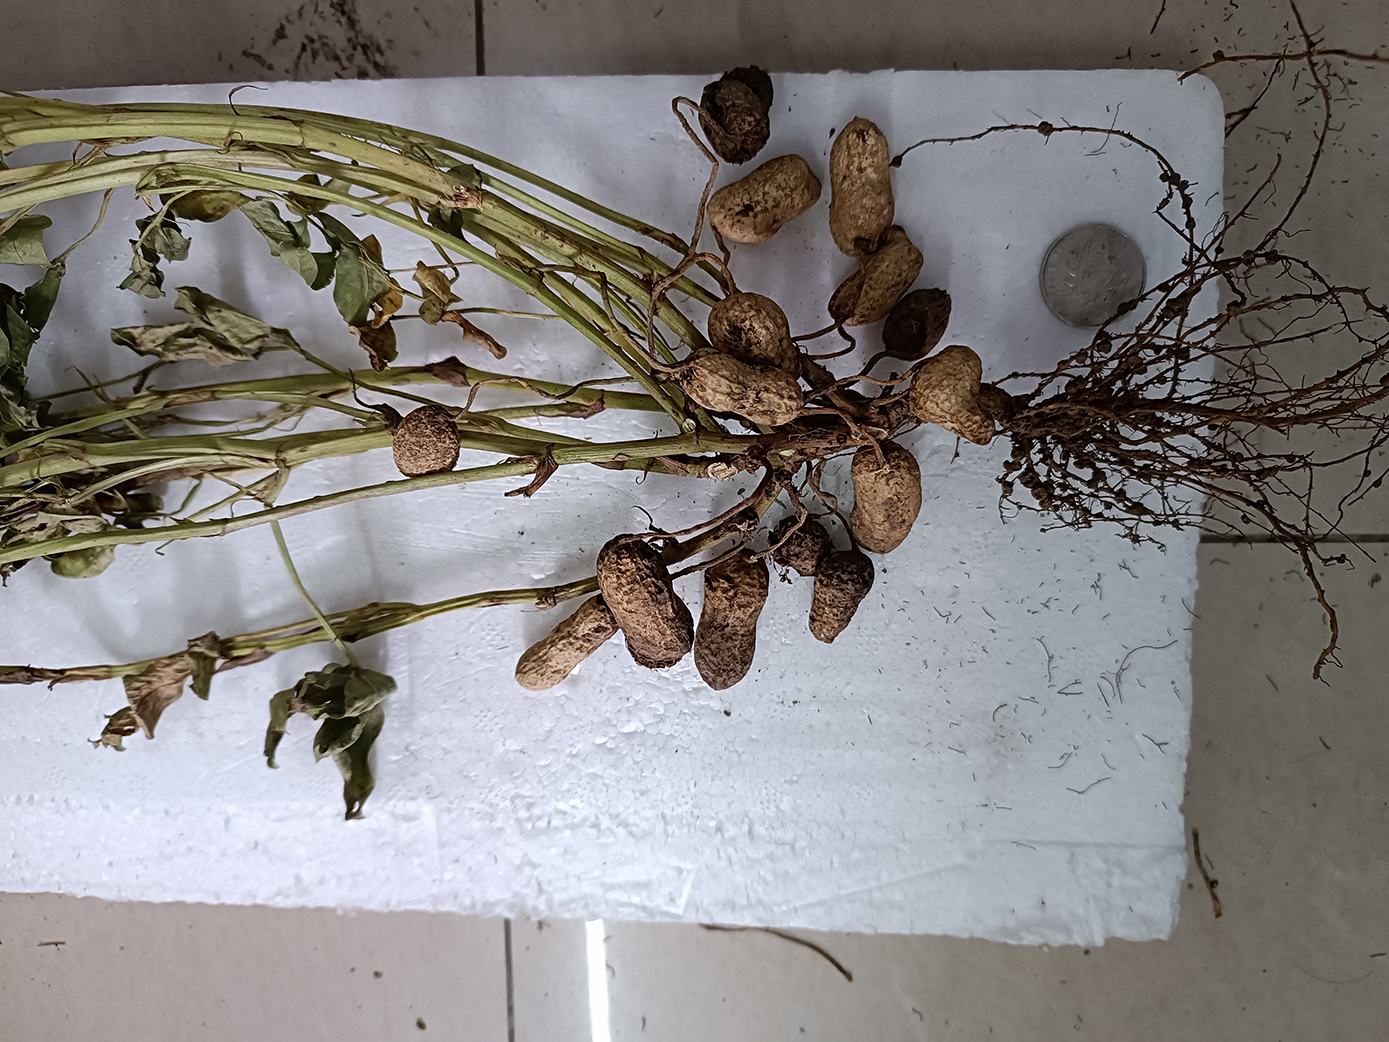h: (706, 157, 822, 246), (680, 348, 801, 427), (516, 597, 618, 688), (827, 116, 896, 252), (829, 225, 922, 325), (908, 344, 994, 448), (850, 439, 925, 556), (393, 404, 461, 477)
l: (595, 535, 690, 669), (694, 548, 769, 692), (701, 66, 773, 163), (706, 293, 797, 360), (808, 551, 873, 642), (882, 290, 953, 359), (772, 514, 825, 572)
